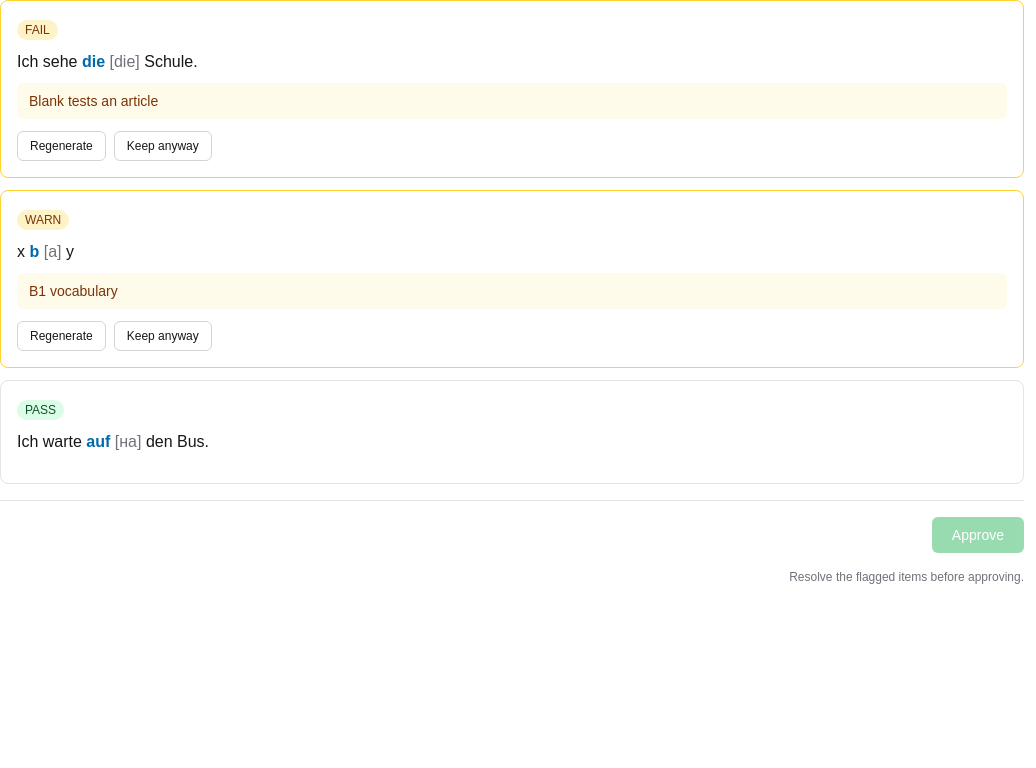
Test: ReviewList › enables approve once the FAIL is overridden
Click the button "Keep anyway" below "FAIL" at (163, 146), box [114,131,212,161]
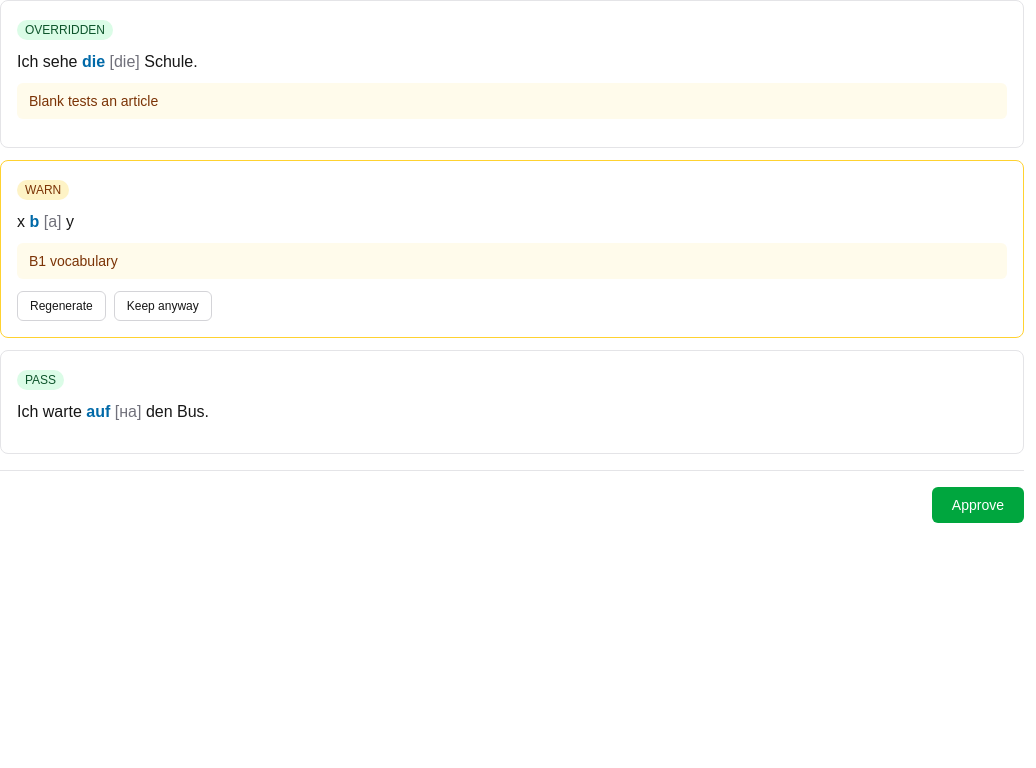
Expected: the button "Approve" is enabled, [932,487,1024,523]
